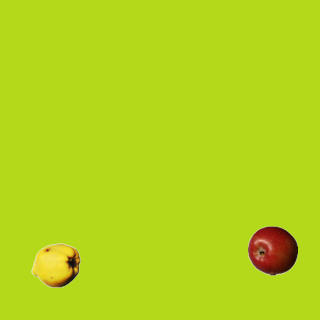Apple Braeburn: (247, 225, 297, 275)
Quince: (30, 240, 80, 290)
